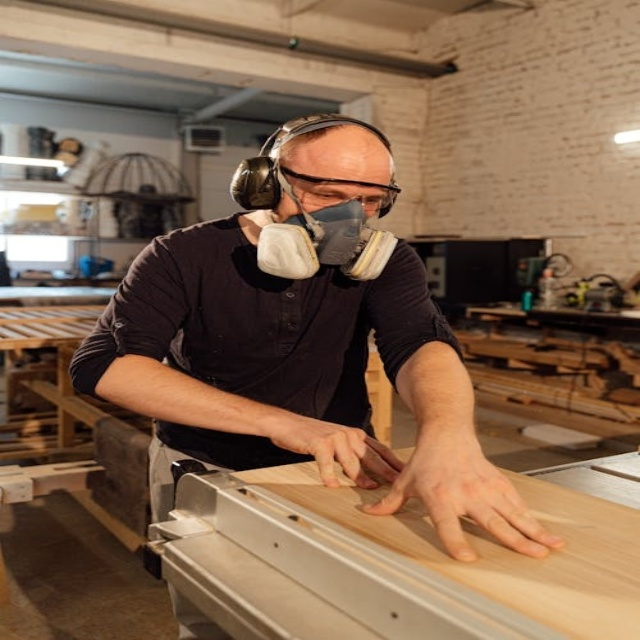Gafas: (279, 165, 401, 208)
Mascara: (287, 192, 371, 266)
Sin_guantes: (362, 443, 563, 562), (289, 424, 397, 491)
